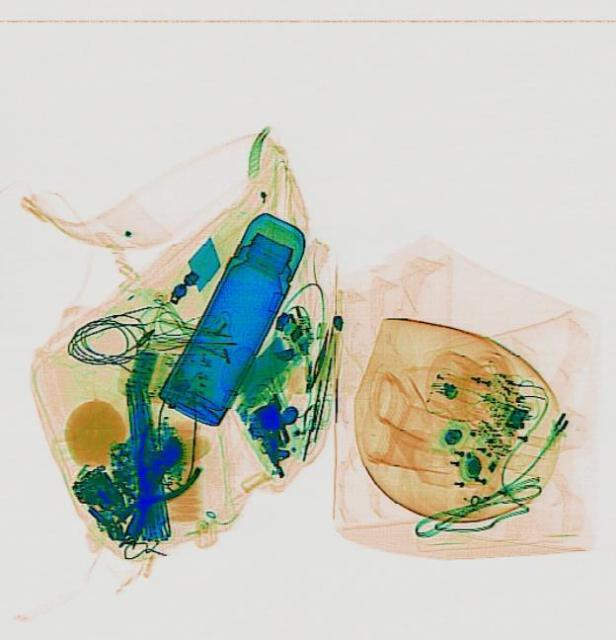Pliers: (89, 420, 210, 552)
